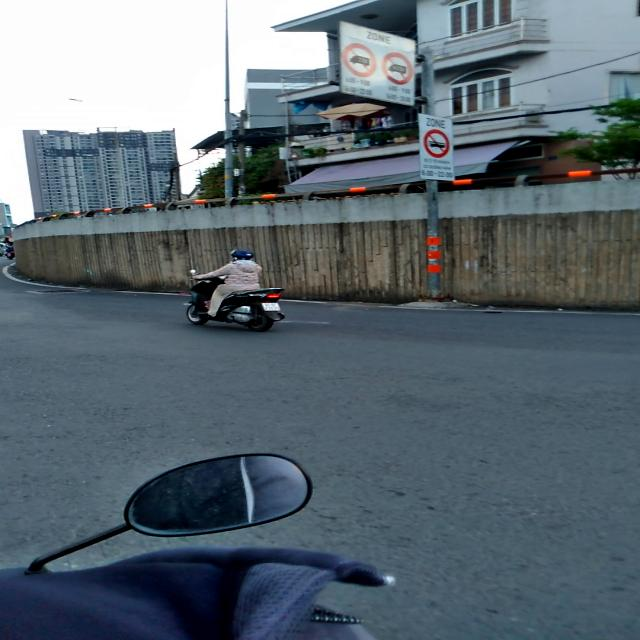P.106b: (342, 42, 377, 78), (381, 52, 414, 85)
P.107a: (424, 128, 451, 158)
